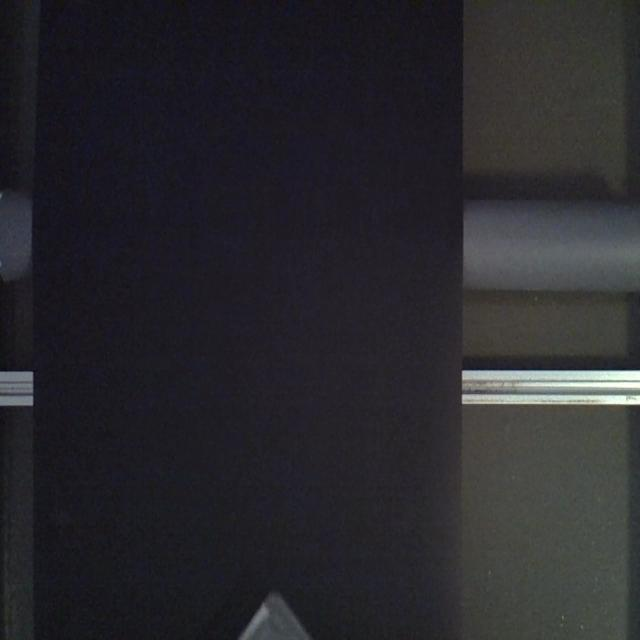mixed-plastics: (236, 588, 312, 638)
